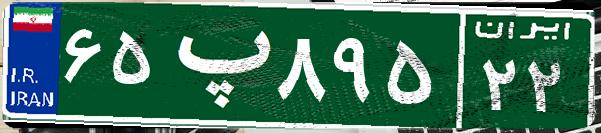2: (475, 38, 525, 113), (525, 38, 570, 115)
5: (385, 28, 445, 110), (110, 28, 158, 105)
6: (57, 26, 110, 107)
8: (273, 28, 330, 110)
9: (330, 28, 385, 110)
پ: (158, 15, 273, 115)
